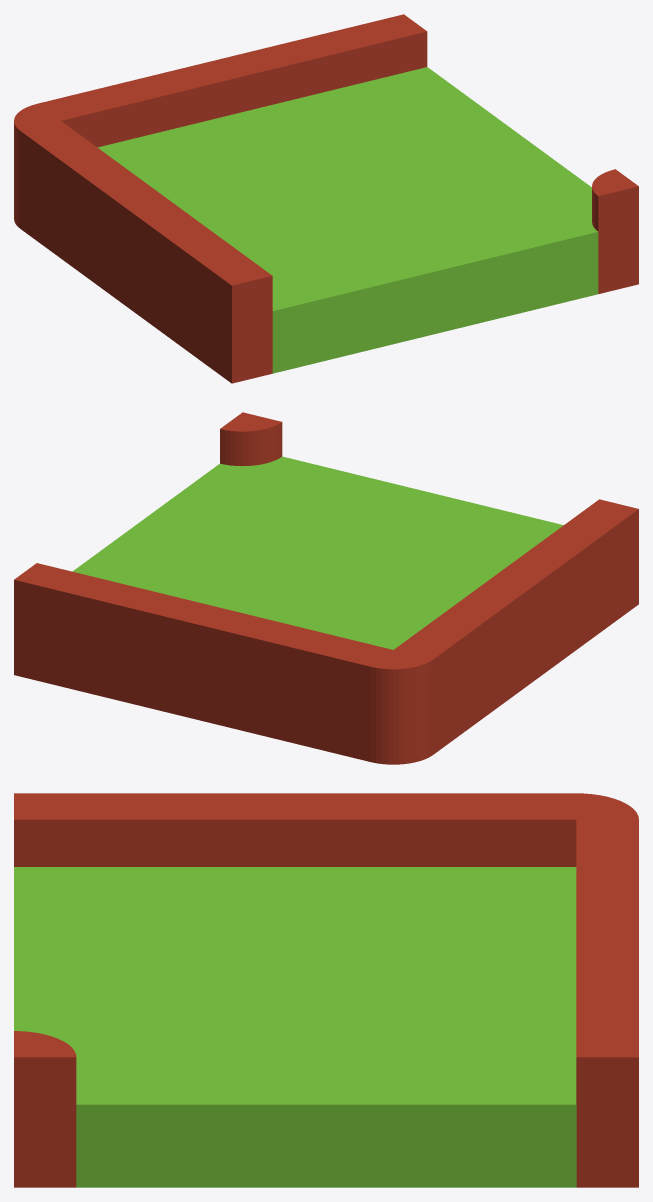
File: Corner_Square_With_Inner.FBX
The picture shows the model from 3 angles, top to bottom: view 1: azimuth 30°, elevation 25°; view 2: azimuth 150°, elevation 25°; view 3: azimuth 270°, elevation 25°; orthographic projection. The views are drawn at different scales.
Visible parts, largest first — view 1: Square_corner_1_01, Walls; view 2: Walls, Square_corner_1_01; view 3: Square_corner_1_01, Walls.
Part boxes in pixels (x1,y1,x2,y2): Square_corner_1_01: (97,67,598,373); Walls: (14,14,638,383); Walls: (14,412,638,764); Square_corner_1_01: (72,456,563,649); Square_corner_1_01: (14,867,576,1187); Walls: (14,793,638,1187).
Size of the model in its own units: 0.9999 by 0.9999 by 0.23.
